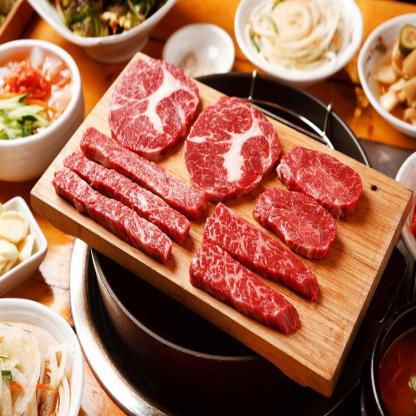beef: (56, 127, 192, 258), (188, 228, 300, 326), (200, 202, 322, 286), (182, 93, 276, 200), (112, 67, 200, 163), (252, 173, 334, 252), (282, 142, 366, 206)
